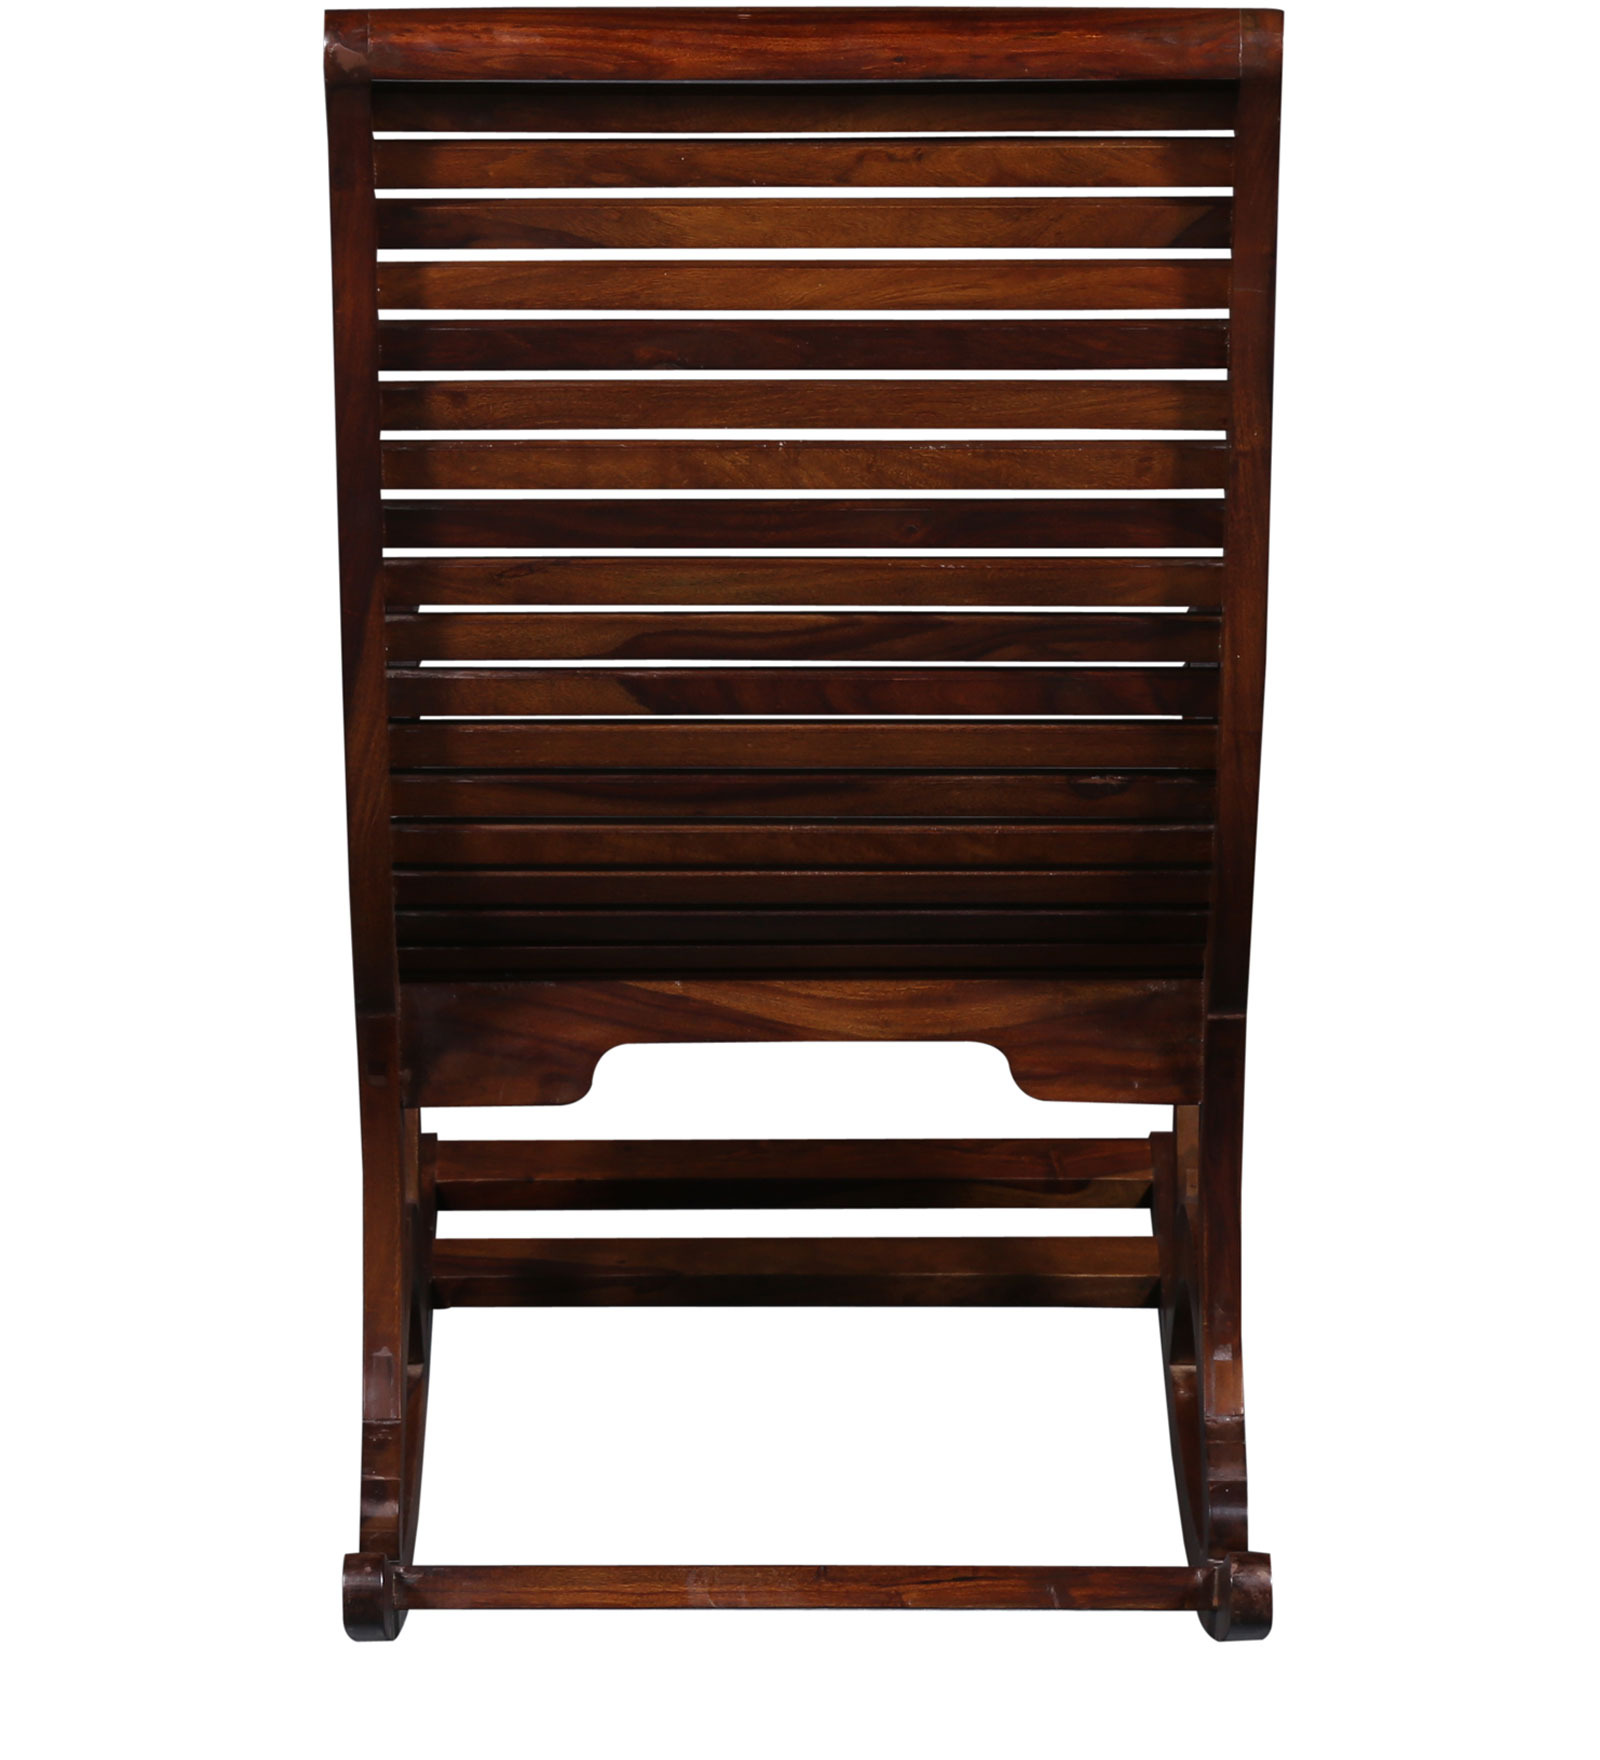Wellesley Rocking Chair in Provincial Teak Finish by Amberville: (219, 18, 1404, 1693)
